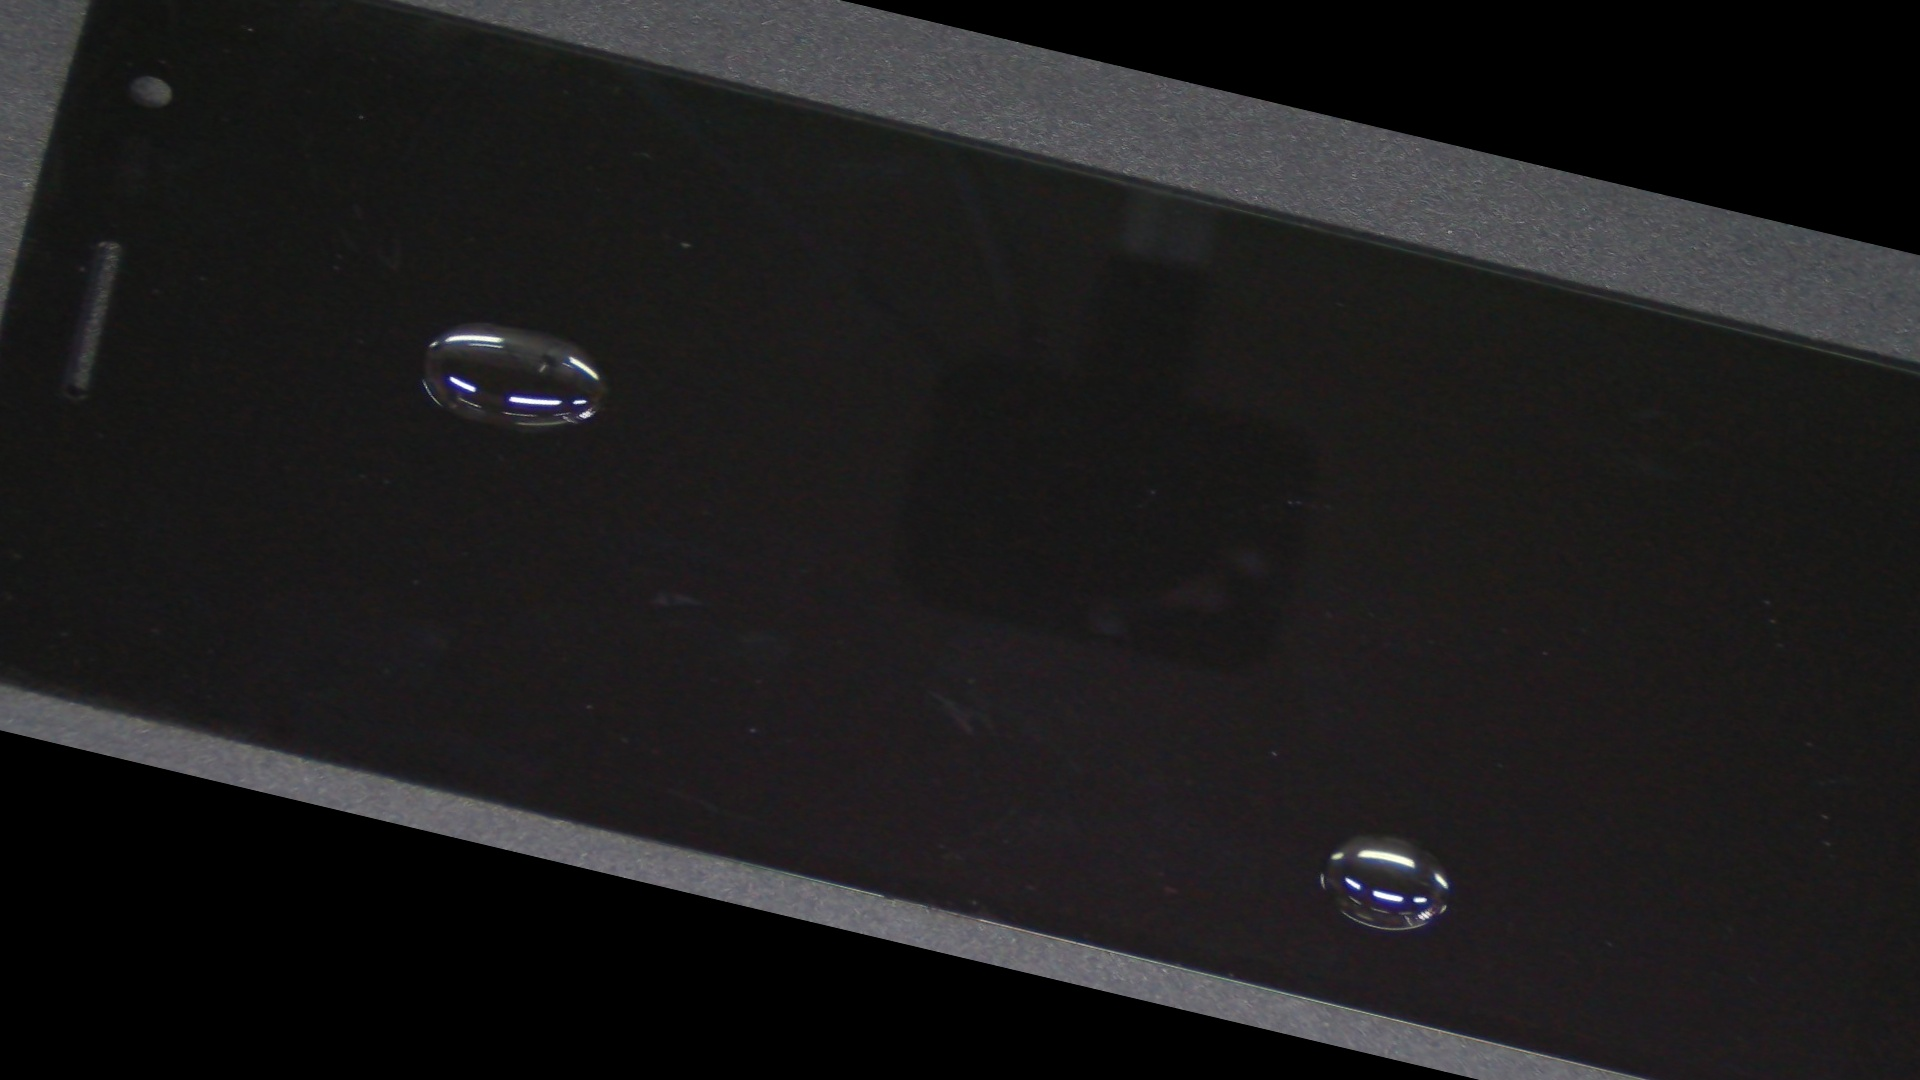oil: (589, 323, 1920, 1080), (195, 70, 864, 588)
